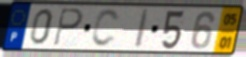0: (28, 7, 55, 47)
5: (159, 9, 188, 51)
6: (190, 10, 216, 51)
C: (90, 8, 121, 49)
I: (132, 8, 152, 50)
P: (52, 7, 85, 48)
